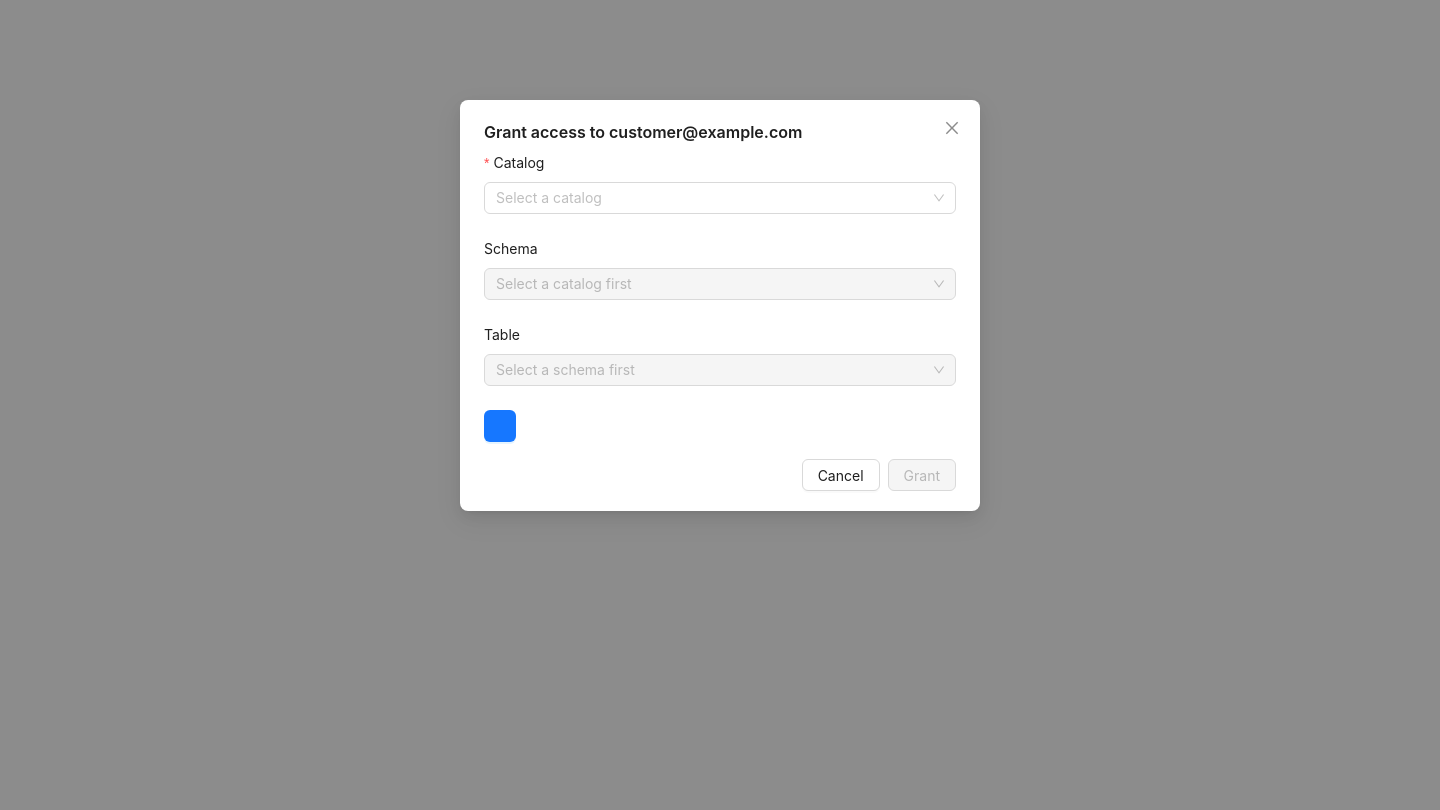
GrantToUserModal › blocks granting on a catalog the user does not own
The width and height of the screenshot is (1440, 810).
Press the mouse on the element showing "Select a catalog" at (720, 198), box x1=484 y1=182 x2=956 y2=214
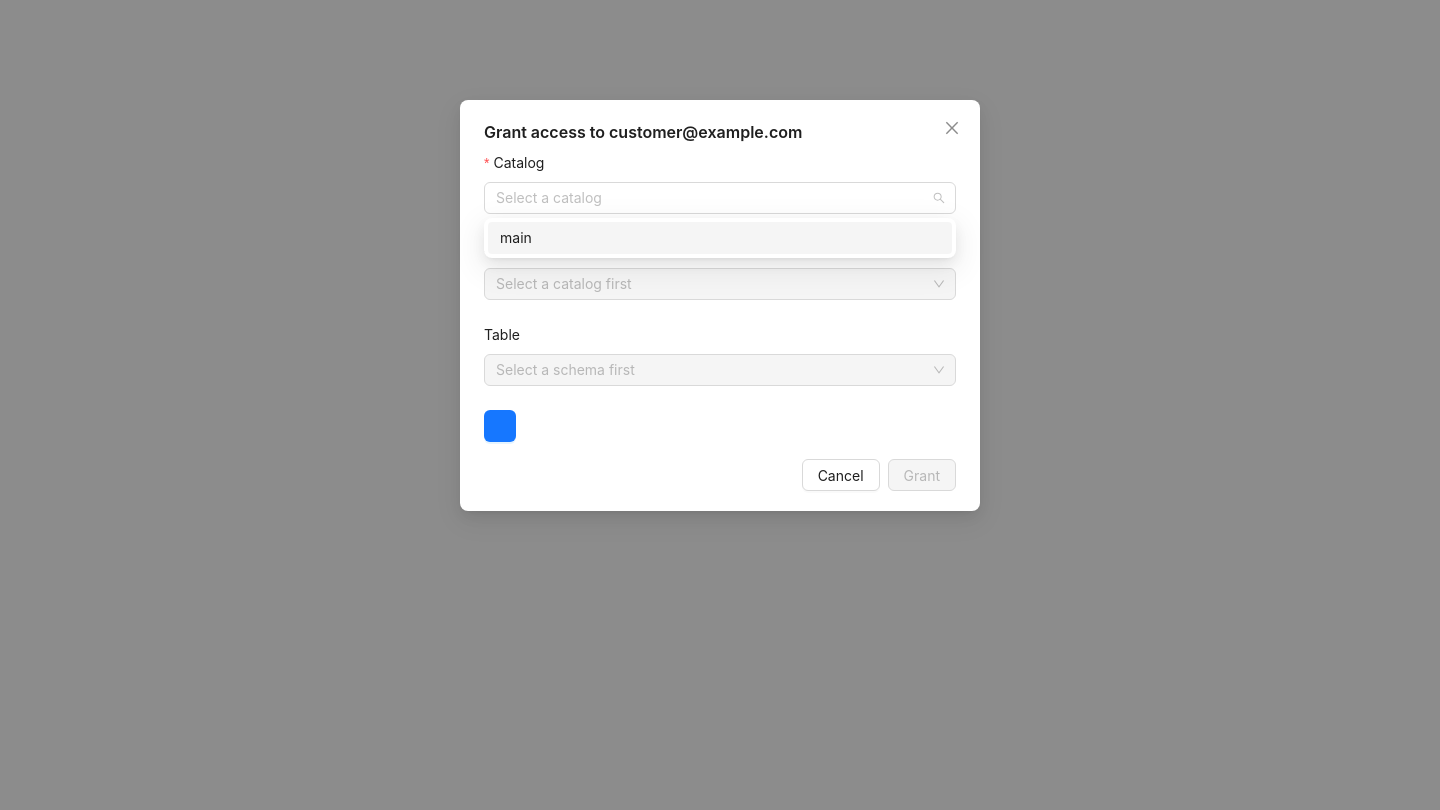
Click the element titled "main" at (720, 238), box x1=488 y1=222 x2=952 y2=254
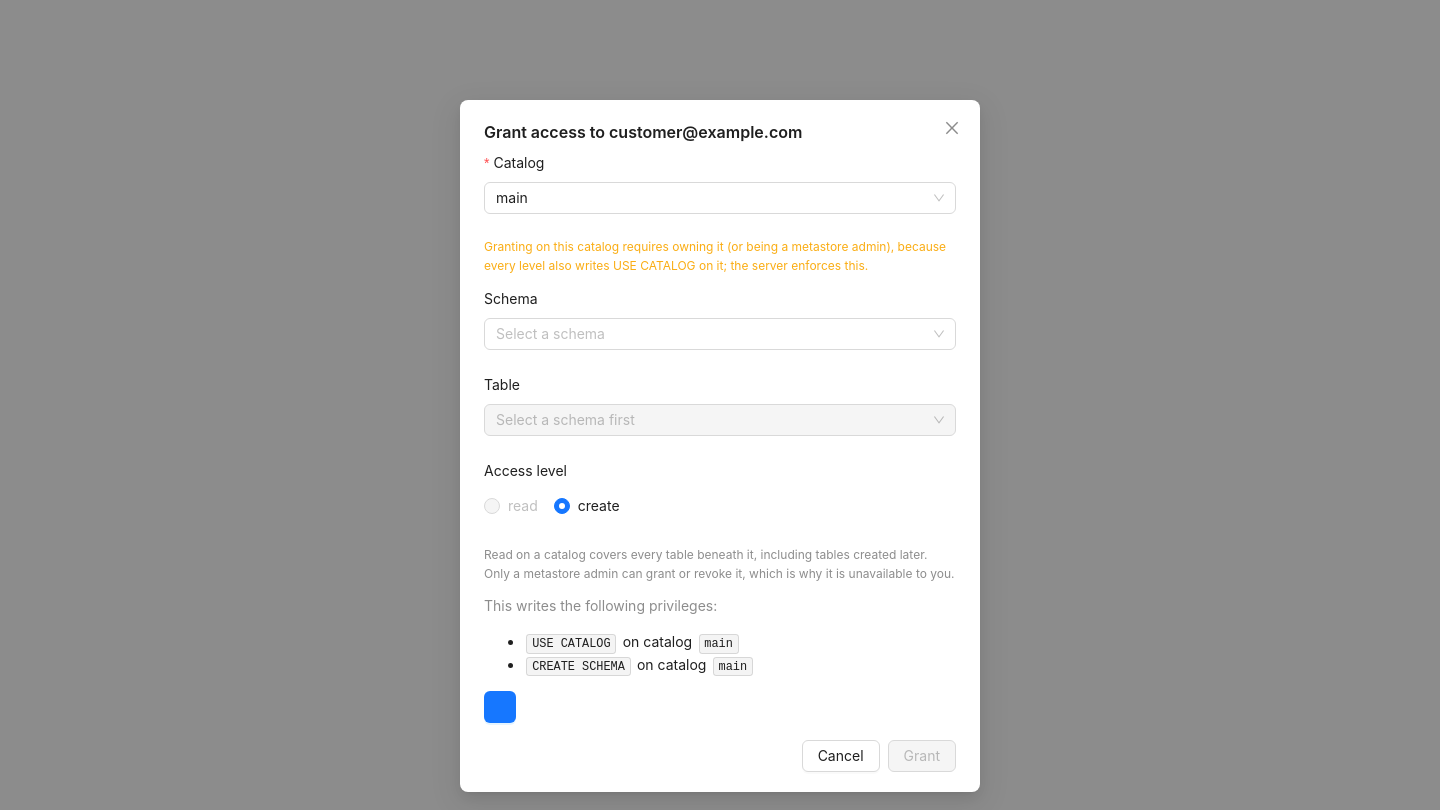
Expected: the button "Grant" is disabled, x1=888 y1=740 x2=956 y2=772
Result: the text "requires owning it (or being a metastore admin)" is shown at x1=484 y1=239 x2=946 y2=273
